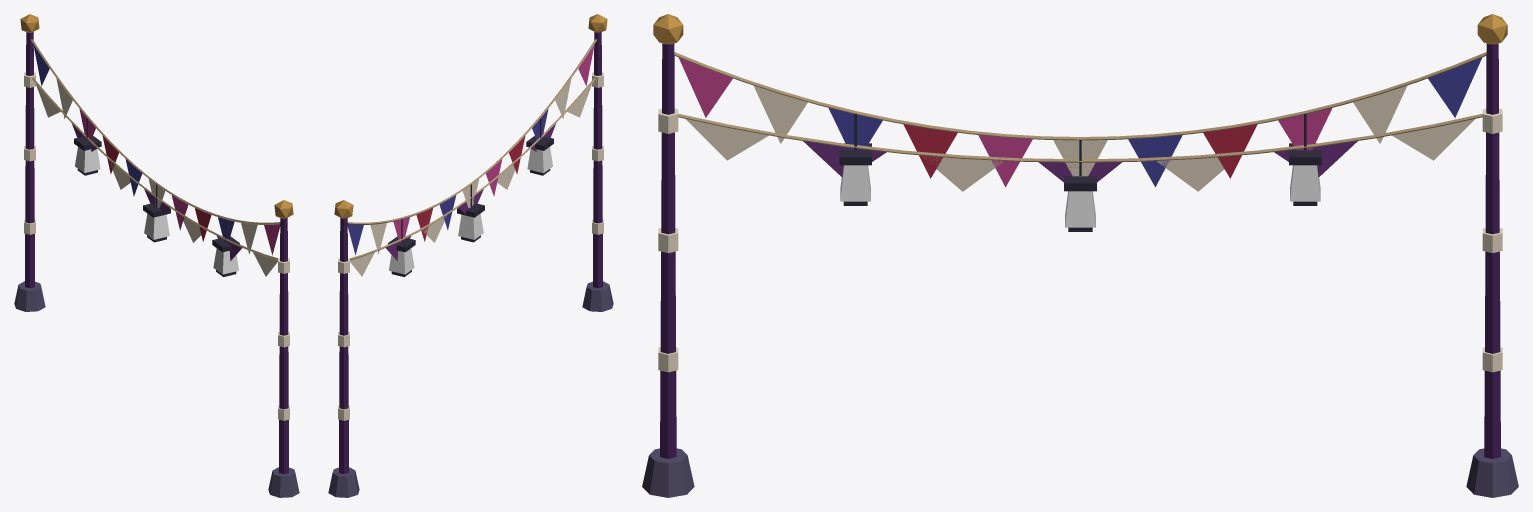
File: Fair_Bunting.fbx
The picture shows the model from 3 angles, left to right: view 1: azimuth 30°, elevation 25°; view 2: azimuth 150°, elevation 25°; view 3: azimuth 270°, elevation 25°; orthographic projection. The views are drawn at different scales.
Visible parts, largest first — view 1: Fair_Bunting; view 2: Fair_Bunting; view 3: Fair_Bunting.
Boxes of the visible parts, x1,y1,x2,y2 form: Fair_Bunting: (14, 14, 299, 497); Fair_Bunting: (328, 14, 613, 497); Fair_Bunting: (642, 14, 1518, 497).
Size of what is drawn, in the model's own units: 0.6 by 5.95 by 10.
2 materials, 1 textured.
